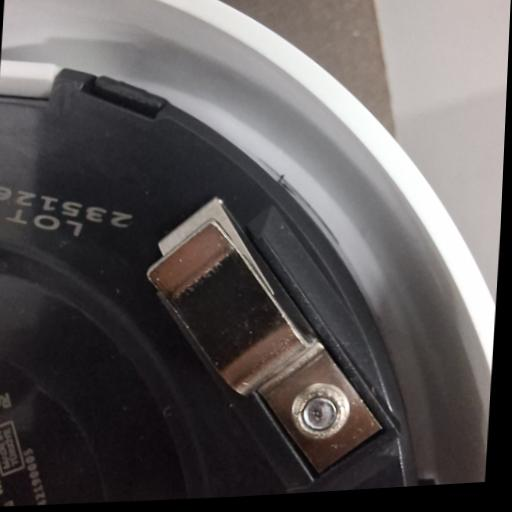yayli: (140, 201, 393, 484)
